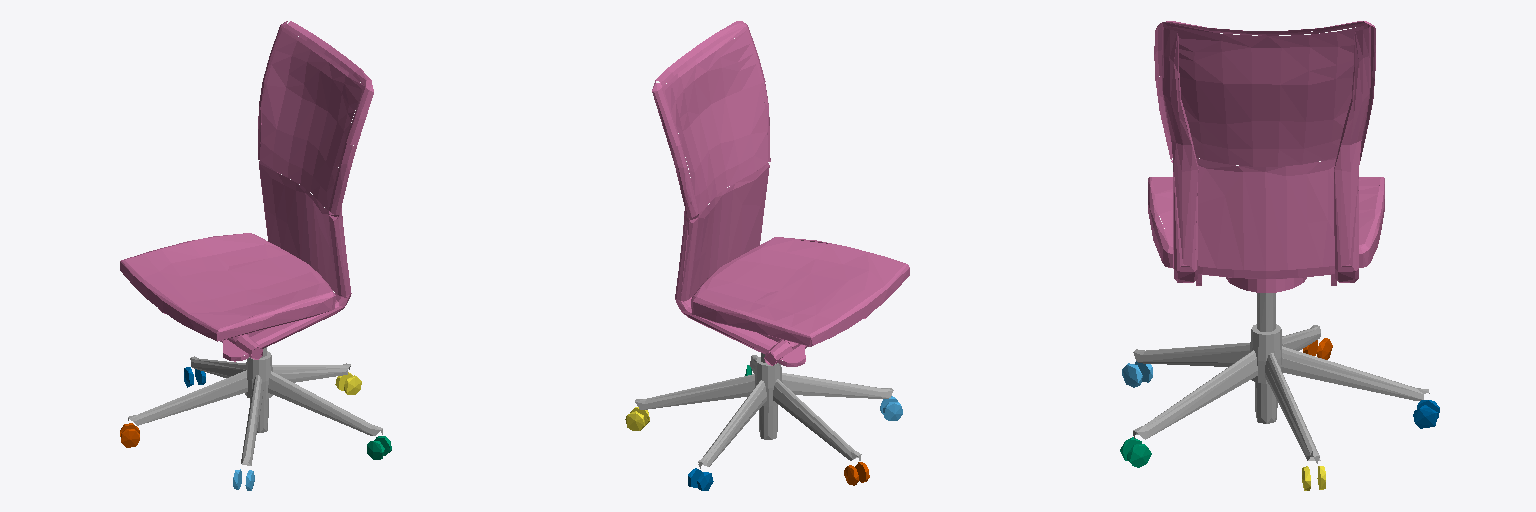
robot.urdf — partnet_484f0070df7d5375492d9da2668ec34c:
<?xml version="1.0" ?>
<robot name="partnet_484f0070df7d5375492d9da2668ec34c">
	<link name="base"/>
	<link name="link_0">
		<visual name="wheel-83">
			<origin xyz="-0.3882982130918734 0.6695968715402502 -0.3883615999553967"/>
			<geometry>
				<mesh filename="textured_objs/original-5.obj"/>
			</geometry>
		</visual>
		<visual name="wheel-84">
			<origin xyz="-0.3882982130918734 0.6695968715402502 -0.3883615999553967"/>
			<geometry>
				<mesh filename="textured_objs/original-6.obj"/>
			</geometry>
		</visual>
		<collision>
			<origin xyz="-0.3882982130918734 0.6695968715402502 -0.3883615999553967"/>
			<geometry>
				<mesh filename="textured_objs/original-5.obj"/>
			</geometry>
		</collision>
		<collision>
			<origin xyz="-0.3882982130918734 0.6695968715402502 -0.3883615999553967"/>
			<geometry>
				<mesh filename="textured_objs/original-6.obj"/>
			</geometry>
		</collision>
	</link>
	<joint name="joint_0" type="continuous">
		<origin xyz="0.3882982130918734 -0.6695968715402502 0.3883615999553967"/>
		<axis xyz="0.7071569111563146 -8.795232445660362e-06 -0.7070566476078873"/>
		<child link="link_0"/>
		<parent link="link_6"/>
	</joint>
	<link name="link_1">
		<visual name="wheel-81">
			<origin xyz="-0.45349305297408987 0.6686166421597345 0.23093715436942888"/>
			<geometry>
				<mesh filename="textured_objs/original-3.obj"/>
			</geometry>
		</visual>
		<visual name="wheel-82">
			<origin xyz="-0.45349305297408987 0.6686166421597345 0.23093715436942888"/>
			<geometry>
				<mesh filename="textured_objs/original-2.obj"/>
			</geometry>
		</visual>
		<collision>
			<origin xyz="-0.45349305297408987 0.6686166421597345 0.23093715436942888"/>
			<geometry>
				<mesh filename="textured_objs/original-3.obj"/>
			</geometry>
		</collision>
		<collision>
			<origin xyz="-0.45349305297408987 0.6686166421597345 0.23093715436942888"/>
			<geometry>
				<mesh filename="textured_objs/original-2.obj"/>
			</geometry>
		</collision>
	</link>
	<joint name="joint_1" type="continuous">
		<origin xyz="0.45349305297408987 -0.6686166421597345 -0.23093715436942888"/>
		<axis xyz="-0.45396965310415505 -0.00015423388366032076 -0.8910171324236154"/>
		<child link="link_1"/>
		<parent link="link_6"/>
	</joint>
	<link name="link_2">
		<visual name="wheel-79">
			<origin xyz="0.07559632000516166 0.6689209300708564 0.47703858999108073"/>
			<geometry>
				<mesh filename="textured_objs/original-14.obj"/>
			</geometry>
		</visual>
		<visual name="wheel-80">
			<origin xyz="0.07559632000516166 0.6689209300708564 0.47703858999108073"/>
			<geometry>
				<mesh filename="textured_objs/original-15.obj"/>
			</geometry>
		</visual>
		<collision>
			<origin xyz="0.07559632000516166 0.6689209300708564 0.47703858999108073"/>
			<geometry>
				<mesh filename="textured_objs/original-14.obj"/>
			</geometry>
		</collision>
		<collision>
			<origin xyz="0.07559632000516166 0.6689209300708564 0.47703858999108073"/>
			<geometry>
				<mesh filename="textured_objs/original-15.obj"/>
			</geometry>
		</collision>
	</link>
	<joint name="joint_2" type="continuous">
		<origin xyz="-0.07559632000516166 -0.6689209300708564 -0.47703858999108073"/>
		<axis xyz="-0.9876832177195999 3.664213515128352e-05 0.15646680188593276"/>
		<child link="link_2"/>
		<parent link="link_6"/>
	</joint>
	<link name="link_3">
		<visual name="wheel-77">
			<origin xyz="0.5014841607944234 0.668715483997155 0.07938241910134095"/>
			<geometry>
				<mesh filename="textured_objs/original-24.obj"/>
			</geometry>
		</visual>
		<visual name="wheel-78">
			<origin xyz="0.5014841607944234 0.668715483997155 0.07938241910134095"/>
			<geometry>
				<mesh filename="textured_objs/original-17.obj"/>
			</geometry>
		</visual>
		<collision>
			<origin xyz="0.5014841607944234 0.668715483997155 0.07938241910134095"/>
			<geometry>
				<mesh filename="textured_objs/original-24.obj"/>
			</geometry>
		</collision>
		<collision>
			<origin xyz="0.5014841607944234 0.668715483997155 0.07938241910134095"/>
			<geometry>
				<mesh filename="textured_objs/original-17.obj"/>
			</geometry>
		</collision>
	</link>
	<joint name="joint_3" type="continuous">
		<origin xyz="-0.5014841607944234 -0.668715483997155 -0.07938241910134095"/>
		<axis xyz="0.15632512471263457 1.7774726542298688e-05 -0.9877056520379128"/>
		<child link="link_3"/>
		<parent link="link_6"/>
	</joint>
	<link name="link_4">
		<visual name="wheel-75">
			<origin xyz="0.24890958064273377 0.6689823709129936 -0.4885572797977715"/>
			<geometry>
				<mesh filename="textured_objs/original-22.obj"/>
			</geometry>
		</visual>
		<visual name="wheel-76">
			<origin xyz="0.24890958064273377 0.6689823709129936 -0.4885572797977715"/>
			<geometry>
				<mesh filename="textured_objs/original-23.obj"/>
			</geometry>
		</visual>
		<collision>
			<origin xyz="0.24890958064273377 0.6689823709129936 -0.4885572797977715"/>
			<geometry>
				<mesh filename="textured_objs/original-22.obj"/>
			</geometry>
		</collision>
		<collision>
			<origin xyz="0.24890958064273377 0.6689823709129936 -0.4885572797977715"/>
			<geometry>
				<mesh filename="textured_objs/original-23.obj"/>
			</geometry>
		</collision>
	</link>
	<joint name="joint_4" type="continuous">
		<origin xyz="-0.24890958064273377 -0.6689823709129936 0.4885572797977715"/>
		<axis xyz="-0.8910529873398336 5.353578203700192e-05 -0.4538992959750856"/>
		<child link="link_4"/>
		<parent link="link_6"/>
	</joint>
	<link name="link_5">
		<visual name="seat_soft_surface-86">
			<origin xyz="-0.004823793379306792 0 -0.0354715274105072"/>
			<geometry>
				<mesh filename="textured_objs/original-38.obj"/>
			</geometry>
		</visual>
		<visual name="back_soft_surface-94">
			<origin xyz="-0.004823793379306792 0 -0.0354715274105072"/>
			<geometry>
				<mesh filename="textured_objs/original-40.obj"/>
			</geometry>
		</visual>
		<visual name="back_soft_surface-94">
			<origin xyz="-0.004823793379306792 0 -0.0354715274105072"/>
			<geometry>
				<mesh filename="textured_objs/original-37.obj"/>
			</geometry>
		</visual>
		<visual name="back_frame_vertical_bar-91">
			<origin xyz="-0.004823793379306792 0 -0.0354715274105072"/>
			<geometry>
				<mesh filename="textured_objs/new-12.obj"/>
			</geometry>
		</visual>
		<visual name="back_frame_vertical_bar-91">
			<origin xyz="-0.004823793379306792 0 -0.0354715274105072"/>
			<geometry>
				<mesh filename="textured_objs/original-36.obj"/>
			</geometry>
		</visual>
		<visual name="back_frame_vertical_bar-91">
			<origin xyz="-0.004823793379306792 0 -0.0354715274105072"/>
			<geometry>
				<mesh filename="textured_objs/new-8.obj"/>
			</geometry>
		</visual>
		<visual name="back_frame_vertical_bar-92">
			<origin xyz="-0.004823793379306792 0 -0.0354715274105072"/>
			<geometry>
				<mesh filename="textured_objs/new-9.obj"/>
			</geometry>
		</visual>
		<visual name="back_frame_vertical_bar-92">
			<origin xyz="-0.004823793379306792 0 -0.0354715274105072"/>
			<geometry>
				<mesh filename="textured_objs/original-39.obj"/>
			</geometry>
		</visual>
		<visual name="back_frame_vertical_bar-92">
			<origin xyz="-0.004823793379306792 0 -0.0354715274105072"/>
			<geometry>
				<mesh filename="textured_objs/new-6.obj"/>
			</geometry>
		</visual>
		<visual name="back_frame_horizontal_bar-93">
			<origin xyz="-0.004823793379306792 0 -0.0354715274105072"/>
			<geometry>
				<mesh filename="textured_objs/new-7.obj"/>
			</geometry>
		</visual>
		<visual name="back_connector-89">
			<origin xyz="-0.004823793379306792 0 -0.0354715274105072"/>
			<geometry>
				<mesh filename="textured_objs/new-10.obj"/>
			</geometry>
		</visual>
		<visual name="back_connector-89">
			<origin xyz="-0.004823793379306792 0 -0.0354715274105072"/>
			<geometry>
				<mesh filename="textured_objs/new-2.obj"/>
			</geometry>
		</visual>
		<visual name="back_connector-90">
			<origin xyz="-0.004823793379306792 0 -0.0354715274105072"/>
			<geometry>
				<mesh filename="textured_objs/new-4.obj"/>
			</geometry>
		</visual>
		<visual name="back_connector-90">
			<origin xyz="-0.004823793379306792 0 -0.0354715274105072"/>
			<geometry>
				<mesh filename="textured_objs/new-11.obj"/>
			</geometry>
		</visual>
		<visual name="seat_connector-62">
			<origin xyz="-0.004823793379306792 0 -0.0354715274105072"/>
			<geometry>
				<mesh filename="textured_objs/original-16.obj"/>
			</geometry>
		</visual>
		<visual name="seat_connector-63">
			<origin xyz="-0.004823793379306792 0 -0.0354715274105072"/>
			<geometry>
				<mesh filename="textured_objs/original-4.obj"/>
			</geometry>
		</visual>
		<visual name="seat_connector-64">
			<origin xyz="-0.004823793379306792 0 -0.0354715274105072"/>
			<geometry>
				<mesh filename="textured_objs/original-11.obj"/>
			</geometry>
		</visual>
		<visual name="seat_connector-64">
			<origin xyz="-0.004823793379306792 0 -0.0354715274105072"/>
			<geometry>
				<mesh filename="textured_objs/original-9.obj"/>
			</geometry>
		</visual>
		<visual name="seat_connector-64">
			<origin xyz="-0.004823793379306792 0 -0.0354715274105072"/>
			<geometry>
				<mesh filename="textured_objs/original-7.obj"/>
			</geometry>
		</visual>
		<visual name="seat_connector-64">
			<origin xyz="-0.004823793379306792 0 -0.0354715274105072"/>
			<geometry>
				<mesh filename="textured_objs/original-28.obj"/>
			</geometry>
		</visual>
		<visual name="seat_connector-64">
			<origin xyz="-0.004823793379306792 0 -0.0354715274105072"/>
			<geometry>
				<mesh filename="textured_objs/original-8.obj"/>
			</geometry>
		</visual>
		<visual name="seat_connector-64">
			<origin xyz="-0.004823793379306792 0 -0.0354715274105072"/>
			<geometry>
				<mesh filename="textured_objs/original-18.obj"/>
			</geometry>
		</visual>
		<visual name="seat_connector-64">
			<origin xyz="-0.004823793379306792 0 -0.0354715274105072"/>
			<geometry>
				<mesh filename="textured_objs/original-19.obj"/>
			</geometry>
		</visual>
		<visual name="seat_connector-64">
			<origin xyz="-0.004823793379306792 0 -0.0354715274105072"/>
			<geometry>
				<mesh filename="textured_objs/original-33.obj"/>
			</geometry>
		</visual>
		<visual name="seat_connector-64">
			<origin xyz="-0.004823793379306792 0 -0.0354715274105072"/>
			<geometry>
				<mesh filename="textured_objs/original-21.obj"/>
			</geometry>
		</visual>
		<visual name="seat_connector-64">
			<origin xyz="-0.004823793379306792 0 -0.0354715274105072"/>
			<geometry>
				<mesh filename="textured_objs/original-20.obj"/>
			</geometry>
		</visual>
		<visual name="seat_connector-64">
			<origin xyz="-0.004823793379306792 0 -0.0354715274105072"/>
			<geometry>
				<mesh filename="textured_objs/original-32.obj"/>
			</geometry>
		</visual>
		<visual name="seat_connector-64">
			<origin xyz="-0.004823793379306792 0 -0.0354715274105072"/>
			<geometry>
				<mesh filename="textured_objs/original-10.obj"/>
			</geometry>
		</visual>
		<visual name="seat_connector-64">
			<origin xyz="-0.004823793379306792 0 -0.0354715274105072"/>
			<geometry>
				<mesh filename="textured_objs/original-26.obj"/>
			</geometry>
		</visual>
		<collision>
			<origin xyz="-0.004823793379306792 0 -0.0354715274105072"/>
			<geometry>
				<mesh filename="textured_objs/original-38.obj"/>
			</geometry>
		</collision>
		<collision>
			<origin xyz="-0.004823793379306792 0 -0.0354715274105072"/>
			<geometry>
				<mesh filename="textured_objs/original-40.obj"/>
			</geometry>
		</collision>
		<collision>
			<origin xyz="-0.004823793379306792 0 -0.0354715274105072"/>
			<geometry>
				<mesh filename="textured_objs/original-37.obj"/>
			</geometry>
		</collision>
		<collision>
			<origin xyz="-0.004823793379306792 0 -0.0354715274105072"/>
			<geometry>
				<mesh filename="textured_objs/new-12.obj"/>
			</geometry>
		</collision>
		<collision>
			<origin xyz="-0.004823793379306792 0 -0.0354715274105072"/>
			<geometry>
				<mesh filename="textured_objs/original-36.obj"/>
			</geometry>
		</collision>
		<collision>
			<origin xyz="-0.004823793379306792 0 -0.0354715274105072"/>
			<geometry>
				<mesh filename="textured_objs/new-8.obj"/>
			</geometry>
		</collision>
		<collision>
			<origin xyz="-0.004823793379306792 0 -0.0354715274105072"/>
			<geometry>
				<mesh filename="textured_objs/new-9.obj"/>
			</geometry>
		</collision>
		<collision>
			<origin xyz="-0.004823793379306792 0 -0.0354715274105072"/>
			<geometry>
				<mesh filename="textured_objs/original-39.obj"/>
			</geometry>
		</collision>
		<collision>
			<origin xyz="-0.004823793379306792 0 -0.0354715274105072"/>
			<geometry>
				<mesh filename="textured_objs/new-6.obj"/>
			</geometry>
		</collision>
		<collision>
			<origin xyz="-0.004823793379306792 0 -0.0354715274105072"/>
			<geometry>
				<mesh filename="textured_objs/new-7.obj"/>
			</geometry>
		</collision>
		<collision>
			<origin xyz="-0.004823793379306792 0 -0.0354715274105072"/>
			<geometry>
				<mesh filename="textured_objs/new-10.obj"/>
			</geometry>
		</collision>
		<collision>
			<origin xyz="-0.004823793379306792 0 -0.0354715274105072"/>
			<geometry>
				<mesh filename="textured_objs/new-2.obj"/>
			</geometry>
		</collision>
		<collision>
			<origin xyz="-0.004823793379306792 0 -0.0354715274105072"/>
			<geometry>
				<mesh filename="textured_objs/new-4.obj"/>
			</geometry>
		</collision>
		<collision>
			<origin xyz="-0.004823793379306792 0 -0.0354715274105072"/>
			<geometry>
				<mesh filename="textured_objs/new-11.obj"/>
			</geometry>
		</collision>
		<collision>
			<origin xyz="-0.004823793379306792 0 -0.0354715274105072"/>
			<geometry>
				<mesh filename="textured_objs/original-16.obj"/>
			</geometry>
		</collision>
		<collision>
			<origin xyz="-0.004823793379306792 0 -0.0354715274105072"/>
			<geometry>
				<mesh filename="textured_objs/original-4.obj"/>
			</geometry>
		</collision>
		<collision>
			<origin xyz="-0.004823793379306792 0 -0.0354715274105072"/>
			<geometry>
				<mesh filename="textured_objs/original-11.obj"/>
			</geometry>
		</collision>
		<collision>
			<origin xyz="-0.004823793379306792 0 -0.0354715274105072"/>
			<geometry>
				<mesh filename="textured_objs/original-9.obj"/>
			</geometry>
		</collision>
		<collision>
			<origin xyz="-0.004823793379306792 0 -0.0354715274105072"/>
			<geometry>
				<mesh filename="textured_objs/original-7.obj"/>
			</geometry>
		</collision>
		<collision>
			<origin xyz="-0.004823793379306792 0 -0.0354715274105072"/>
			<geometry>
				<mesh filename="textured_objs/original-28.obj"/>
			</geometry>
		</collision>
		<collision>
			<origin xyz="-0.004823793379306792 0 -0.0354715274105072"/>
			<geometry>
				<mesh filename="textured_objs/original-8.obj"/>
			</geometry>
		</collision>
		<collision>
			<origin xyz="-0.004823793379306792 0 -0.0354715274105072"/>
			<geometry>
				<mesh filename="textured_objs/original-18.obj"/>
			</geometry>
		</collision>
		<collision>
			<origin xyz="-0.004823793379306792 0 -0.0354715274105072"/>
			<geometry>
				<mesh filename="textured_objs/original-19.obj"/>
			</geometry>
		</collision>
		<collision>
			<origin xyz="-0.004823793379306792 0 -0.0354715274105072"/>
			<geometry>
				<mesh filename="textured_objs/original-33.obj"/>
			</geometry>
		</collision>
		<collision>
			<origin xyz="-0.004823793379306792 0 -0.0354715274105072"/>
			<geometry>
				<mesh filename="textured_objs/original-21.obj"/>
			</geometry>
		</collision>
		<collision>
			<origin xyz="-0.004823793379306792 0 -0.0354715274105072"/>
			<geometry>
				<mesh filename="textured_objs/original-20.obj"/>
			</geometry>
		</collision>
		<collision>
			<origin xyz="-0.004823793379306792 0 -0.0354715274105072"/>
			<geometry>
				<mesh filename="textured_objs/original-32.obj"/>
			</geometry>
		</collision>
		<collision>
			<origin xyz="-0.004823793379306792 0 -0.0354715274105072"/>
			<geometry>
				<mesh filename="textured_objs/original-10.obj"/>
			</geometry>
		</collision>
		<collision>
			<origin xyz="-0.004823793379306792 0 -0.0354715274105072"/>
			<geometry>
				<mesh filename="textured_objs/original-26.obj"/>
			</geometry>
		</collision>
	</link>
	<joint name="joint_5" type="continuous">
		<origin xyz="0.0 0 0.0"/>
		<axis xyz="0 1 0"/>
		<child link="link_5"/>
		<parent link="link_5_helper"/>
	</joint>
	<link name="link_6">
		<visual name="central_support-58">
			<origin xyz="0 0 0"/>
			<geometry>
				<mesh filename="textured_objs/original-29.obj"/>
			</geometry>
		</visual>
		<visual name="central_support-59">
			<origin xyz="0 0 0"/>
			<geometry>
				<mesh filename="textured_objs/new-0.obj"/>
			</geometry>
		</visual>
		<visual name="central_support-60">
			<origin xyz="0 0 0"/>
			<geometry>
				<mesh filename="textured_objs/new-1.obj"/>
			</geometry>
		</visual>
		<visual name="leg-65">
			<origin xyz="0 0 0"/>
			<geometry>
				<mesh filename="textured_objs/original-27.obj"/>
			</geometry>
		</visual>
		<visual name="leg-66">
			<origin xyz="0 0 0"/>
			<geometry>
				<mesh filename="textured_objs/original-25.obj"/>
			</geometry>
		</visual>
		<visual name="leg-67">
			<origin xyz="0 0 0"/>
			<geometry>
				<mesh filename="textured_objs/original-30.obj"/>
			</geometry>
		</visual>
		<visual name="leg-68">
			<origin xyz="0 0 0"/>
			<geometry>
				<mesh filename="textured_objs/original-31.obj"/>
			</geometry>
		</visual>
		<visual name="leg-69">
			<origin xyz="0 0 0"/>
			<geometry>
				<mesh filename="textured_objs/original-34.obj"/>
			</geometry>
		</visual>
		<collision>
			<origin xyz="0 0 0"/>
			<geometry>
				<mesh filename="textured_objs/original-29.obj"/>
			</geometry>
		</collision>
		<collision>
			<origin xyz="0 0 0"/>
			<geometry>
				<mesh filename="textured_objs/new-0.obj"/>
			</geometry>
		</collision>
		<collision>
			<origin xyz="0 0 0"/>
			<geometry>
				<mesh filename="textured_objs/new-1.obj"/>
			</geometry>
		</collision>
		<collision>
			<origin xyz="0 0 0"/>
			<geometry>
				<mesh filename="textured_objs/original-27.obj"/>
			</geometry>
		</collision>
		<collision>
			<origin xyz="0 0 0"/>
			<geometry>
				<mesh filename="textured_objs/original-25.obj"/>
			</geometry>
		</collision>
		<collision>
			<origin xyz="0 0 0"/>
			<geometry>
				<mesh filename="textured_objs/original-30.obj"/>
			</geometry>
		</collision>
		<collision>
			<origin xyz="0 0 0"/>
			<geometry>
				<mesh filename="textured_objs/original-31.obj"/>
			</geometry>
		</collision>
		<collision>
			<origin xyz="0 0 0"/>
			<geometry>
				<mesh filename="textured_objs/original-34.obj"/>
			</geometry>
		</collision>
	</link>
	<joint name="joint_6" type="fixed">
		<origin rpy="1.570796326794897 0 -1.570796326794897" xyz="0 0 0"/>
		<child link="link_6"/>
		<parent link="base"/>
	</joint>
	<link name="link_5_helper"/>
	<joint name="joint_7" type="prismatic">
		<origin xyz="0.004823793379306792 0 0.0354715274105072"/>
		<axis xyz="0 -1 0"/>
		<child link="link_5_helper"/>
		<parent link="link_6"/>
		<limit lower="0" upper="0.1"/>
	</joint>
</robot>

--- What the picture shows (computed from the rendered views, not written in the file) ---
3 views of the same robot in one strip: view 1: azimuth 30°, elevation 25°; view 2: azimuth 150°, elevation 25°; view 3: azimuth 270°, elevation 25° (orthographic).
Robot: partnet_484f0070df7d5375492d9da2668ec34c — 9 links, 8 joints (6 continuous, 1 prismatic, 1 fixed); root link base; default pose: every joint at zero.
Visible links, largest first — view 1: link_5, link_6; view 2: link_5, link_6; view 3: link_5, link_6, link_1, link_0, link_3.
Boxes of the visible links, x1=… form: link_5: x1=120, y1=21, x2=373, y2=361; link_6: x1=128, y1=347, x2=382, y2=465; link_5: x1=652, y1=21, x2=909, y2=366; link_6: x1=635, y1=353, x2=893, y2=468; link_5: x1=1148, y1=21, x2=1384, y2=292; link_6: x1=1133, y1=293, x2=1429, y2=463; link_1: x1=1120, y1=437, x2=1151, y2=467; link_0: x1=1122, y1=361, x2=1152, y2=387; link_3: x1=1413, y1=400, x2=1439, y2=428.
Bounding box of the posed robot: 1.09 × 1.05 × 1.61 m (x, y, z).
47 mesh visuals loaded from 47 distinct referenced files (47 OBJ).
